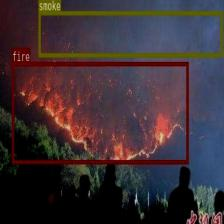fire: (12, 61, 188, 162)
smoke: (38, 10, 222, 56)
